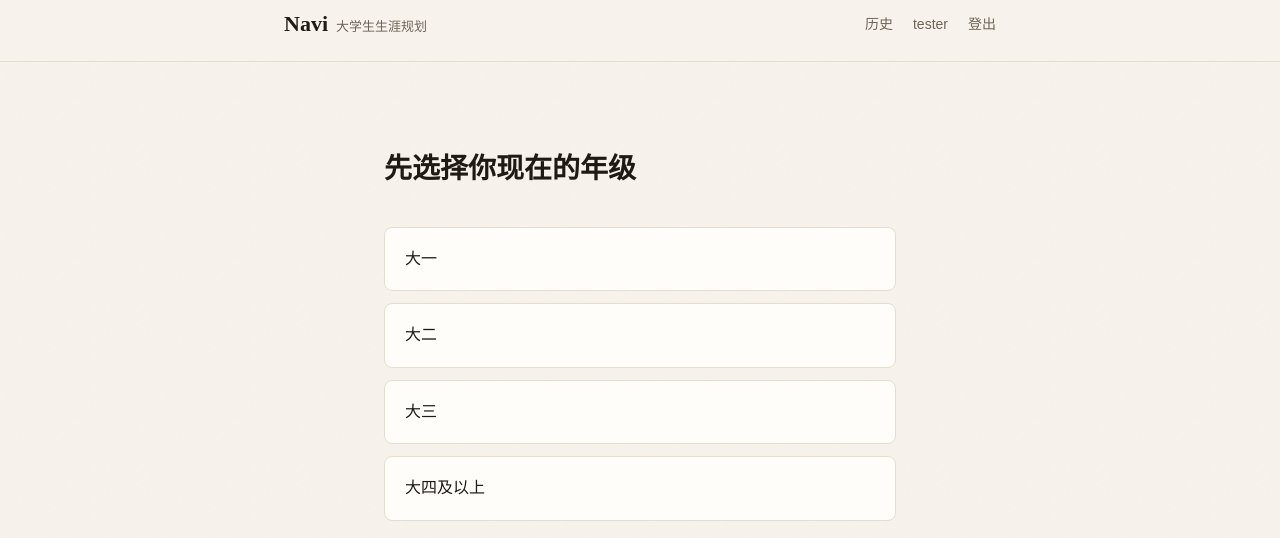
it: App 路由外壳 › 年级选定且题目非空时进入问卷，而不是被问卷守卫弹回首页
Click the button "大一": (421, 258) 384,227 -> 896,291
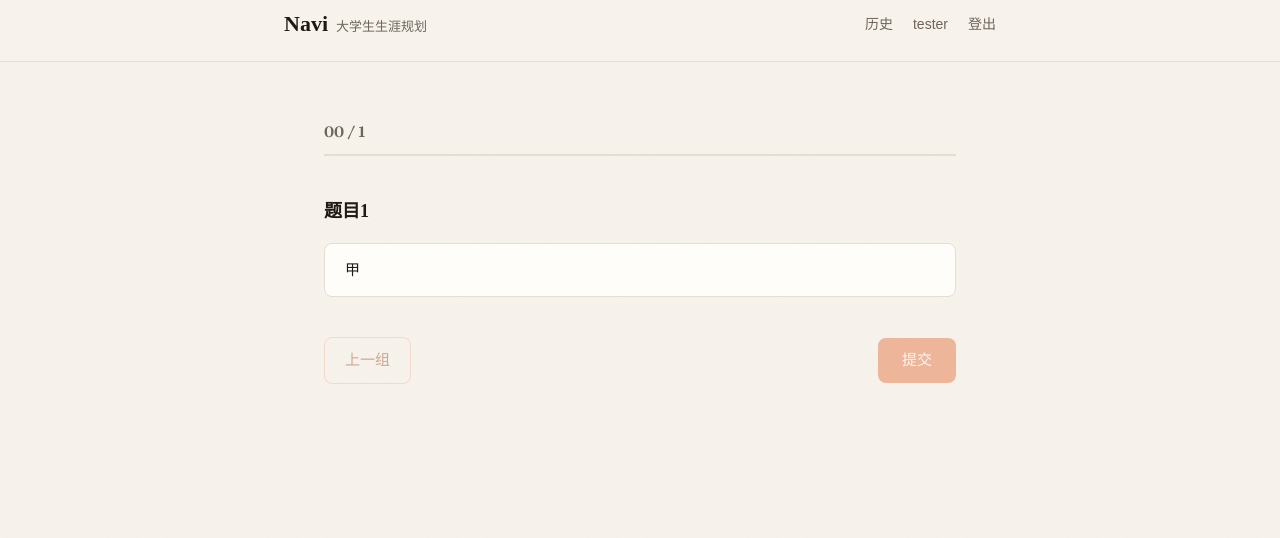
Check: the text "题目1" is shown, box 324,196 -> 369,227
